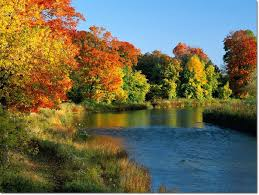lake: (96, 103, 259, 193)
tree: (1, 1, 65, 126), (209, 19, 259, 118), (67, 27, 116, 126), (103, 23, 152, 122), (156, 43, 212, 108)
